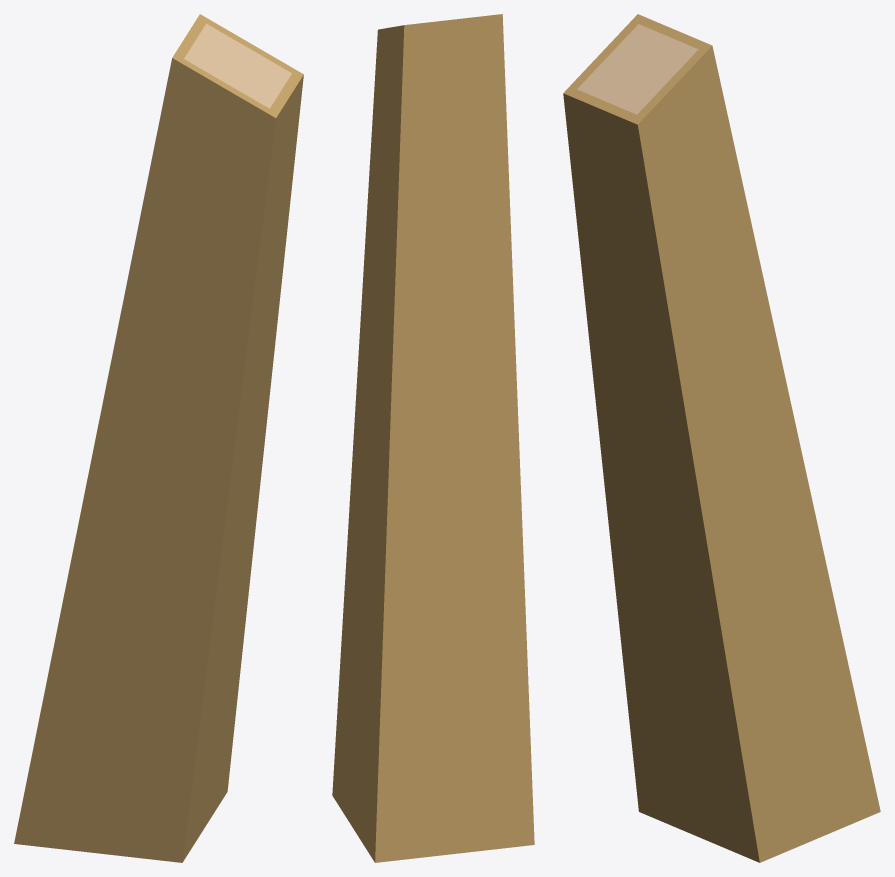
Rendered from Simple_Stump_03.fbx.
3 views of the same model, side by side, from view 1: azimuth 30°, elevation 25°; view 2: azimuth 150°, elevation 25°; view 3: azimuth 270°, elevation 25° (orthographic). The views are drawn at different scales.
Parts seen in each view (by area): view 1: Simple_Stump_03; view 2: Simple_Stump_03; view 3: Simple_Stump_03.
Boxes of the visible parts, <box> form: Simple_Stump_03: <box>14,14,303,862</box>; Simple_Stump_03: <box>332,14,534,862</box>; Simple_Stump_03: <box>563,14,880,862</box>.
Size of the model in its own units: 23.88 by 81 by 29.41.
